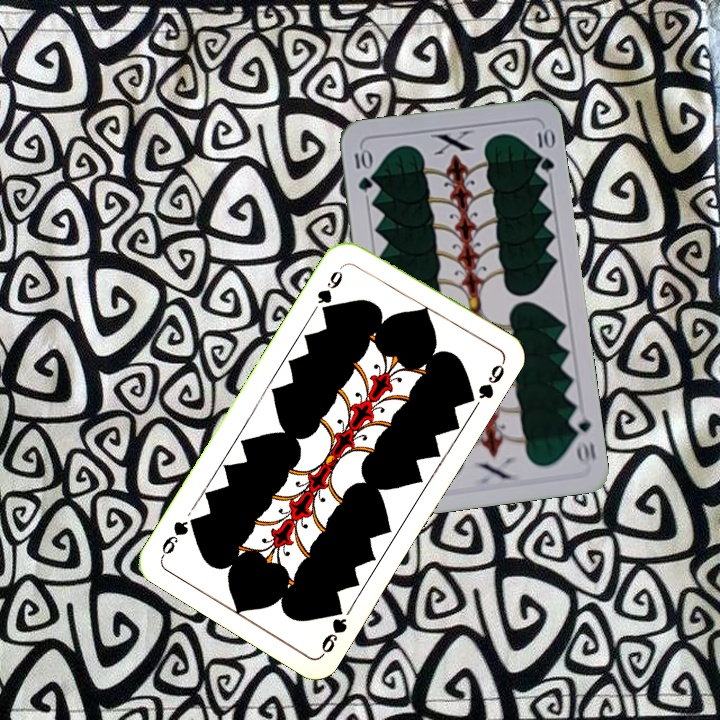G10: (566, 409, 598, 467), (350, 145, 375, 195)
G9: (313, 260, 348, 317), (317, 599, 350, 658)
